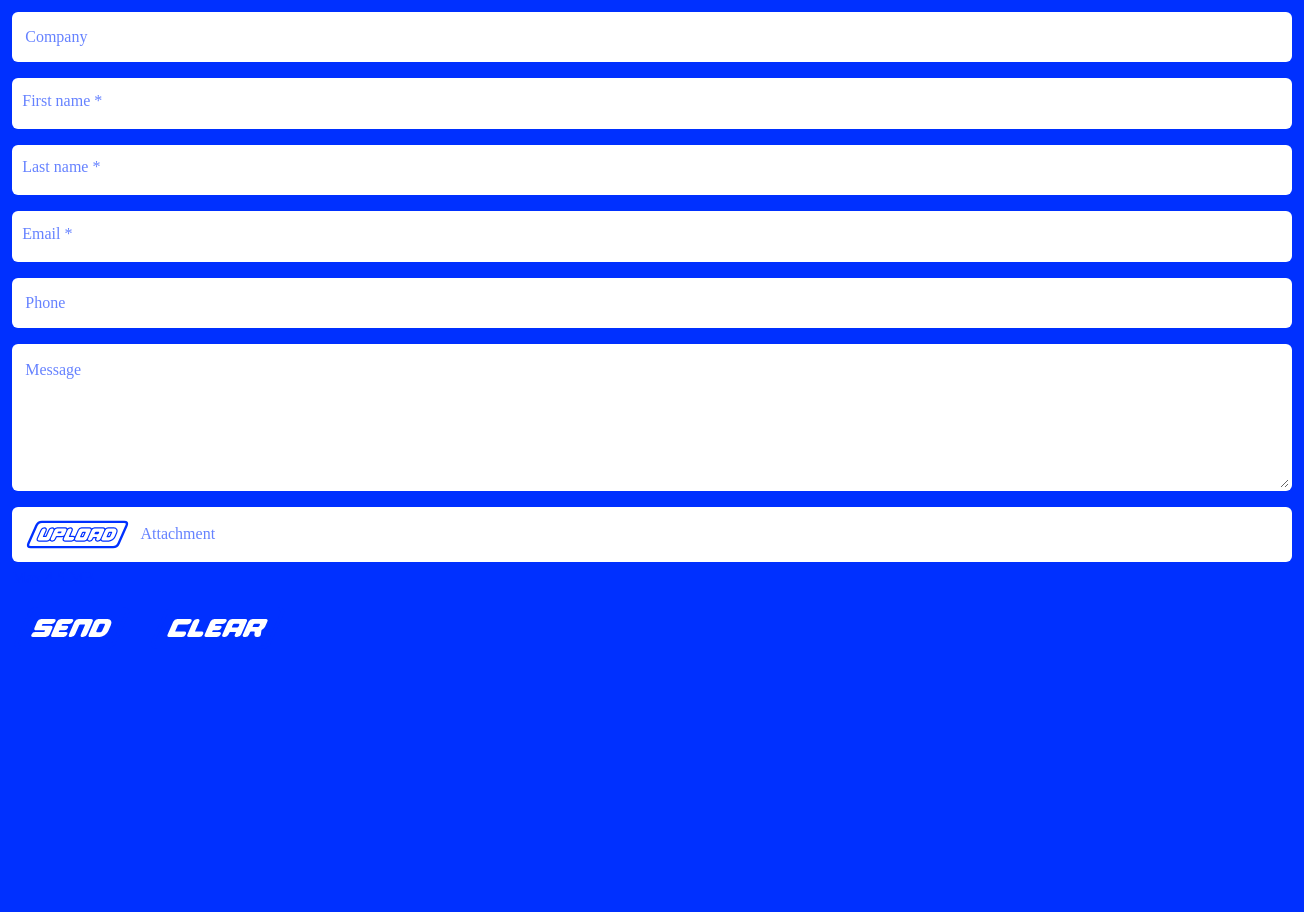
Test case: Given the email field has an invalid format › When the visitor submits › Then the email field's message is shown and no request is sent
In the field labelled "First name": (652, 104) [12,78,1292,129], type "Ada"
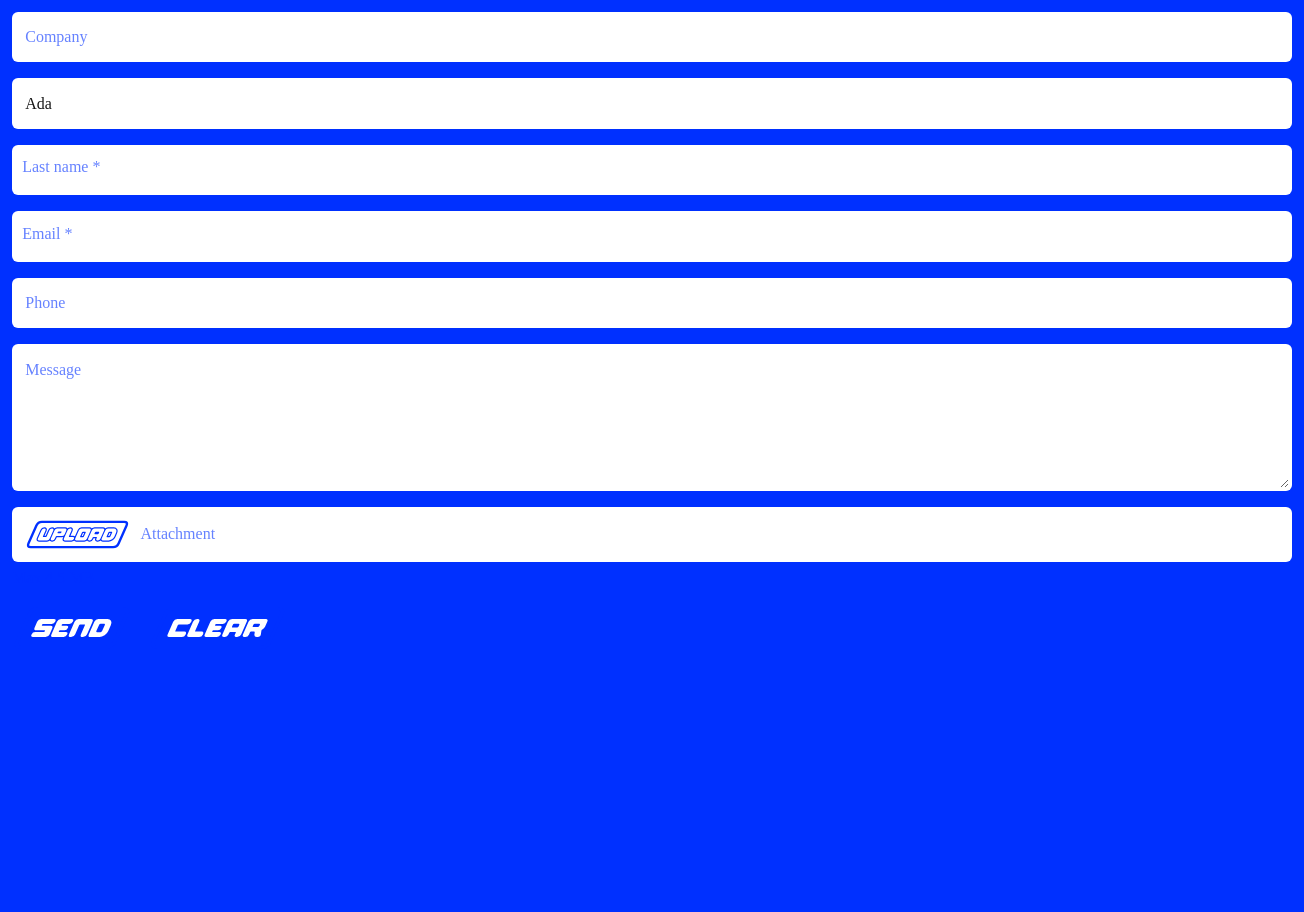
In the field labelled "Last name": (652, 170) [12,145,1292,195], type "Lovelace"
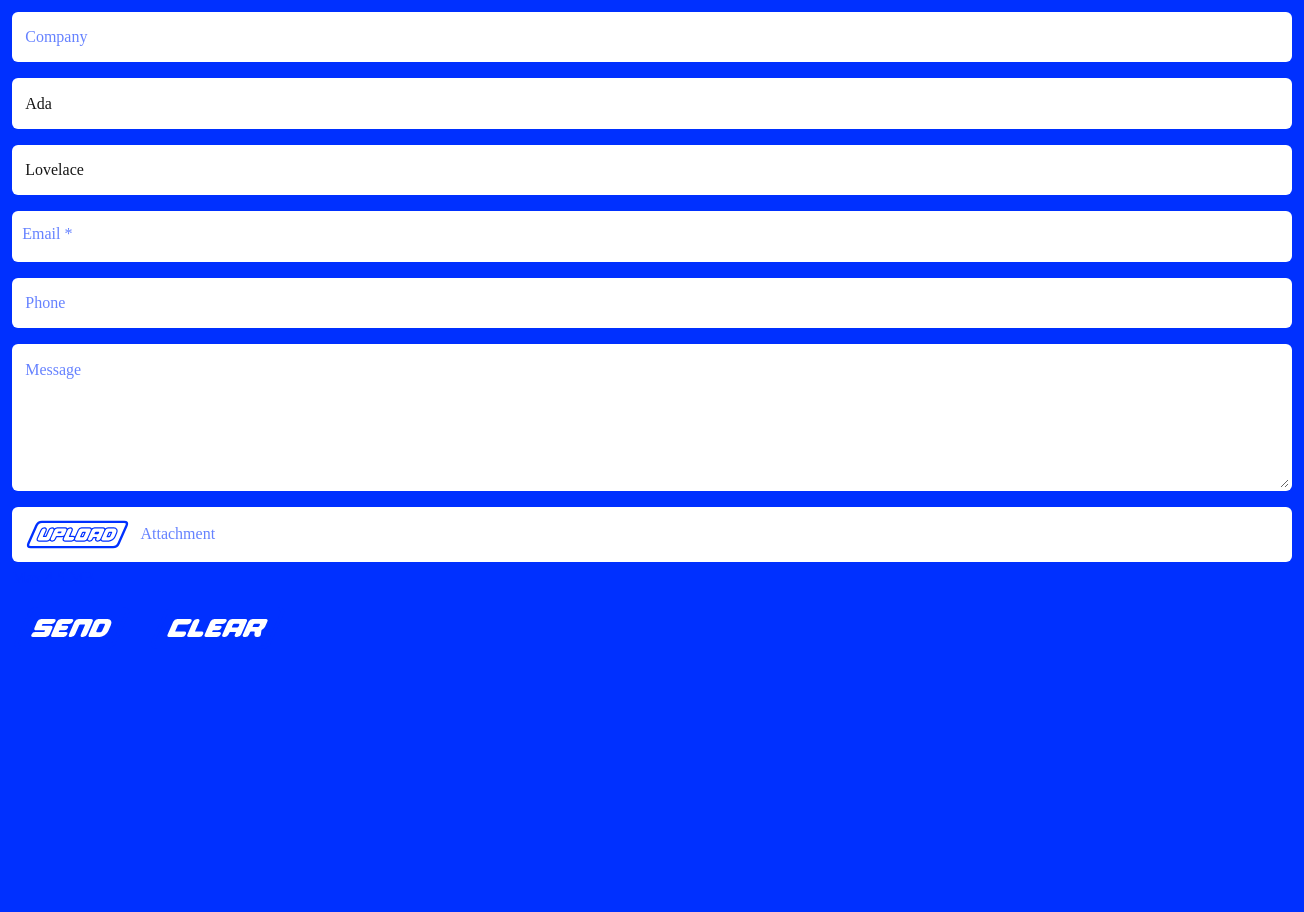
In the field labelled "Email": (652, 237) [12,211,1292,262], type "not-an-email"
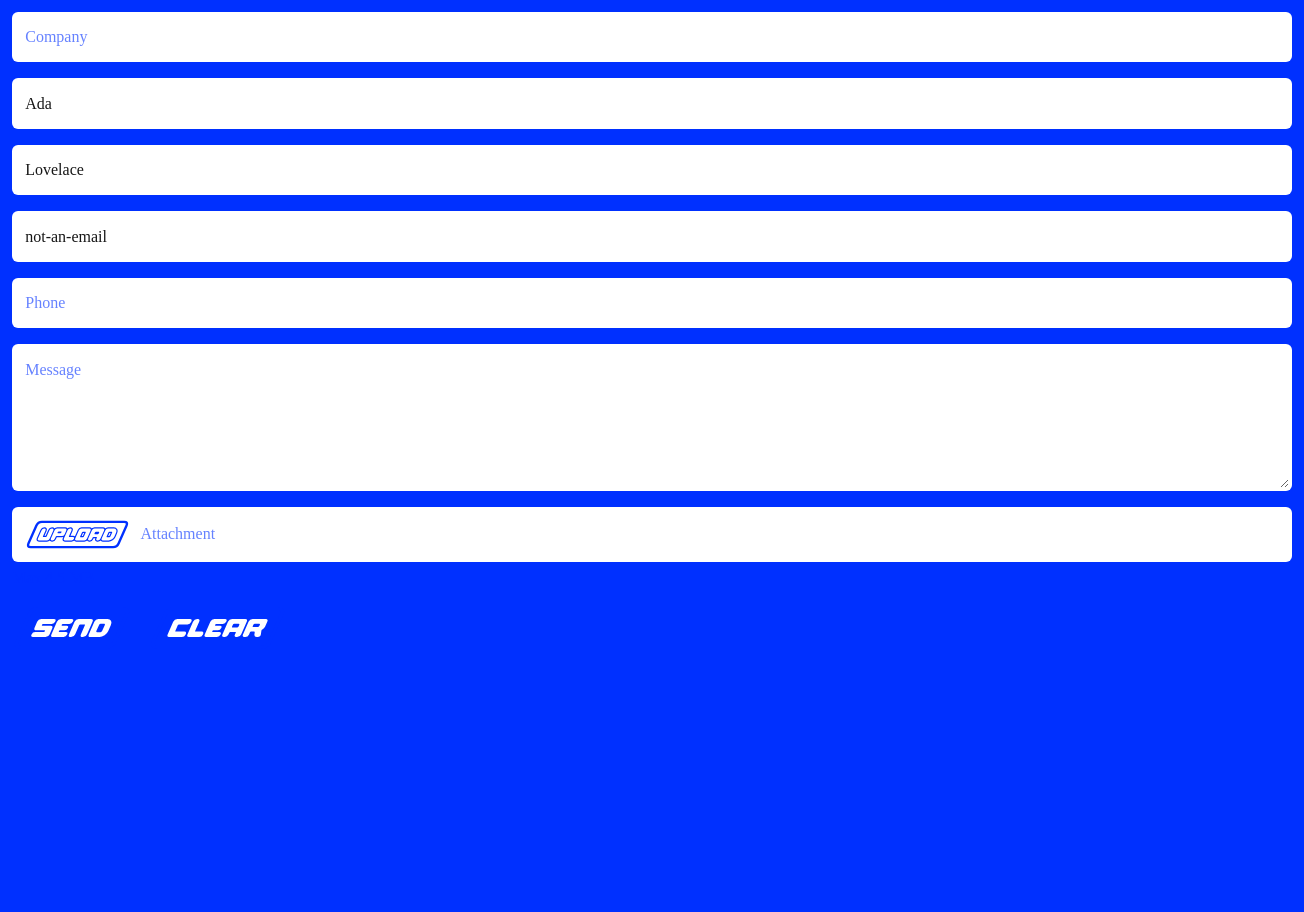
Click the 2nd button named "Send": (72, 628) [12,606,132,650]
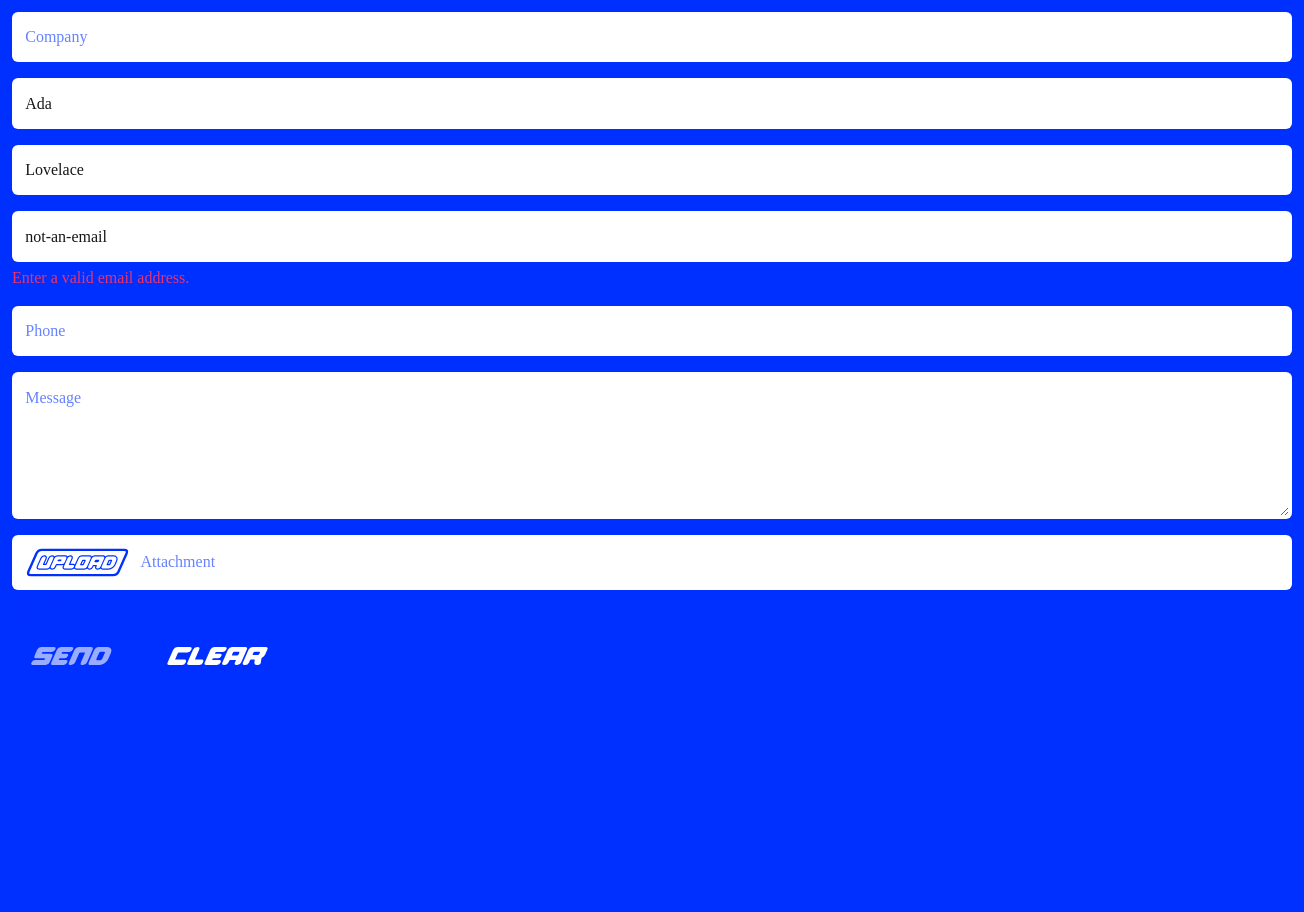
Check: the text "Enter a valid email address." is shown, box [12,269,189,286]
Check: the 2nd button named "Send" is disabled, box [12,634,132,678]
